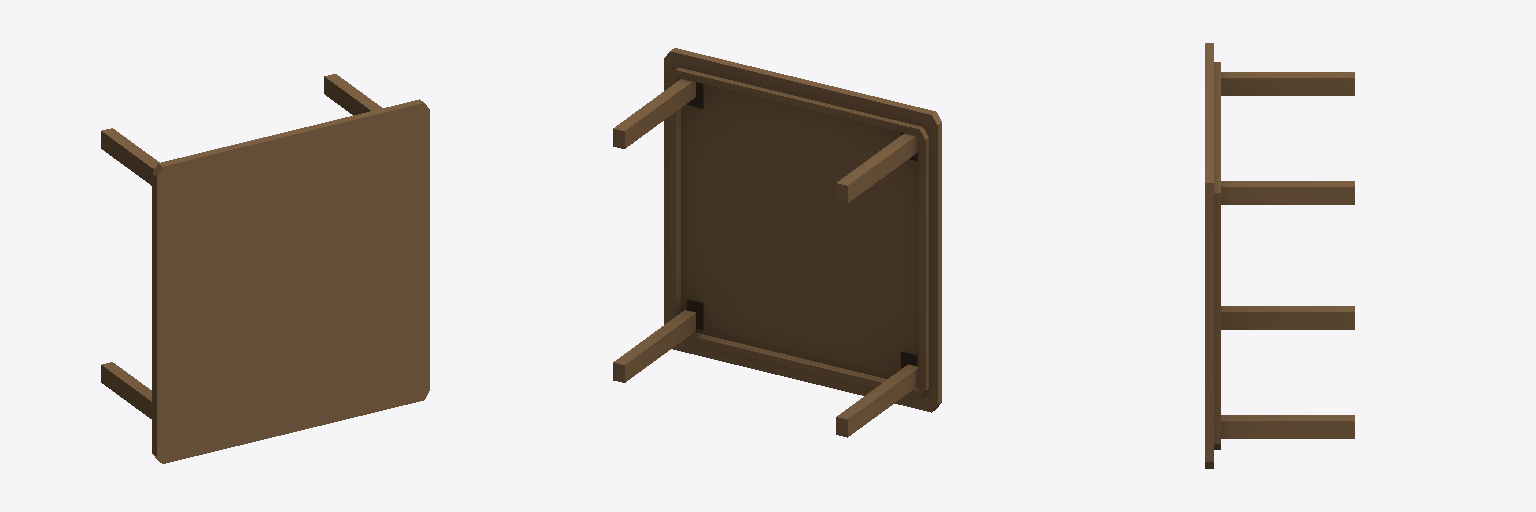
3 views of the same model, side by side, from view 1: azimuth 30°, elevation 25°; view 2: azimuth 150°, elevation 25°; view 3: azimuth 270°, elevation 25° (orthographic).
Visible parts, largest first — view 1: KitchenTable_02_Cube.118; view 2: KitchenTable_02_Cube.118; view 3: KitchenTable_02_Cube.118.
Boxes of the visible parts, <box> form: KitchenTable_02_Cube.118: <box>101,74,429,463</box>; KitchenTable_02_Cube.118: <box>613,48,941,437</box>; KitchenTable_02_Cube.118: <box>1205,43,1354,468</box>.
Size of the model in its own units: 2.1 by 2.18 by 1.
Materials: 1 (1 with a texture image).